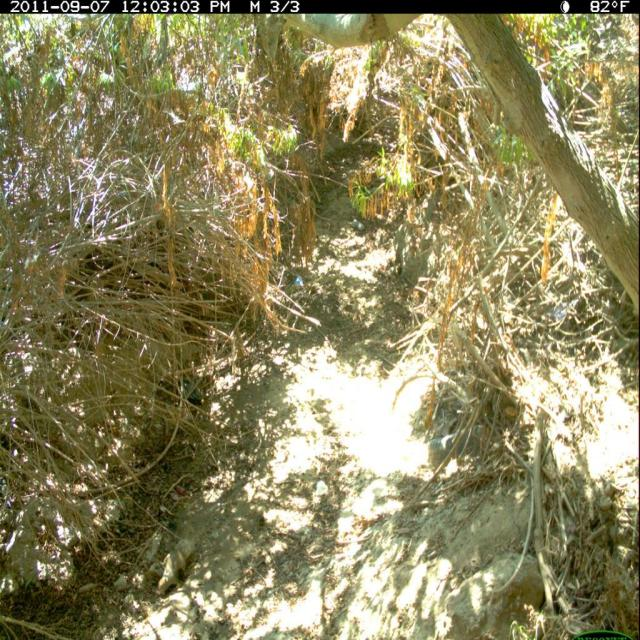squirrel: (157, 537, 197, 595)
